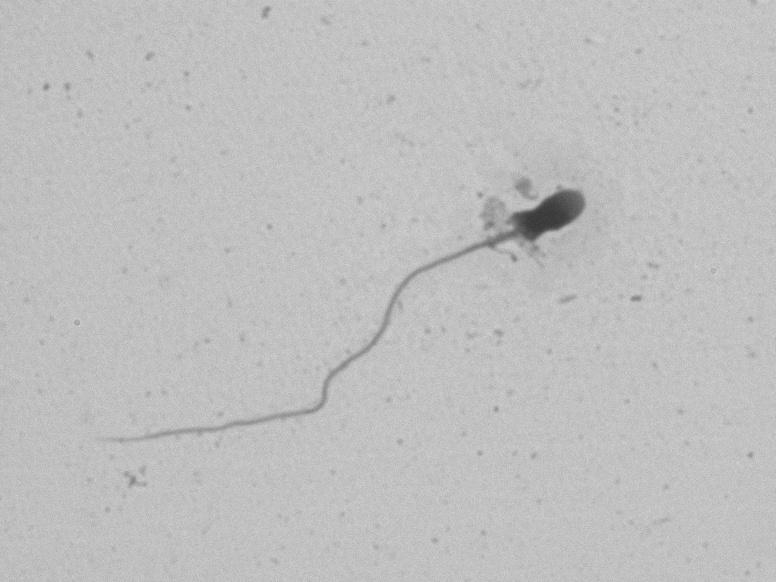Abnormal: (73, 149, 621, 531)
